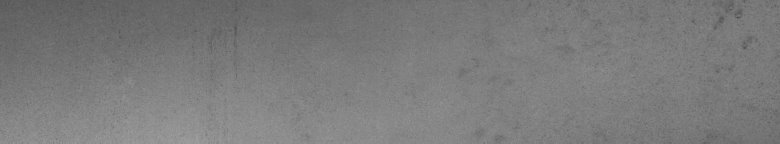ib: (709, 4, 758, 71)
